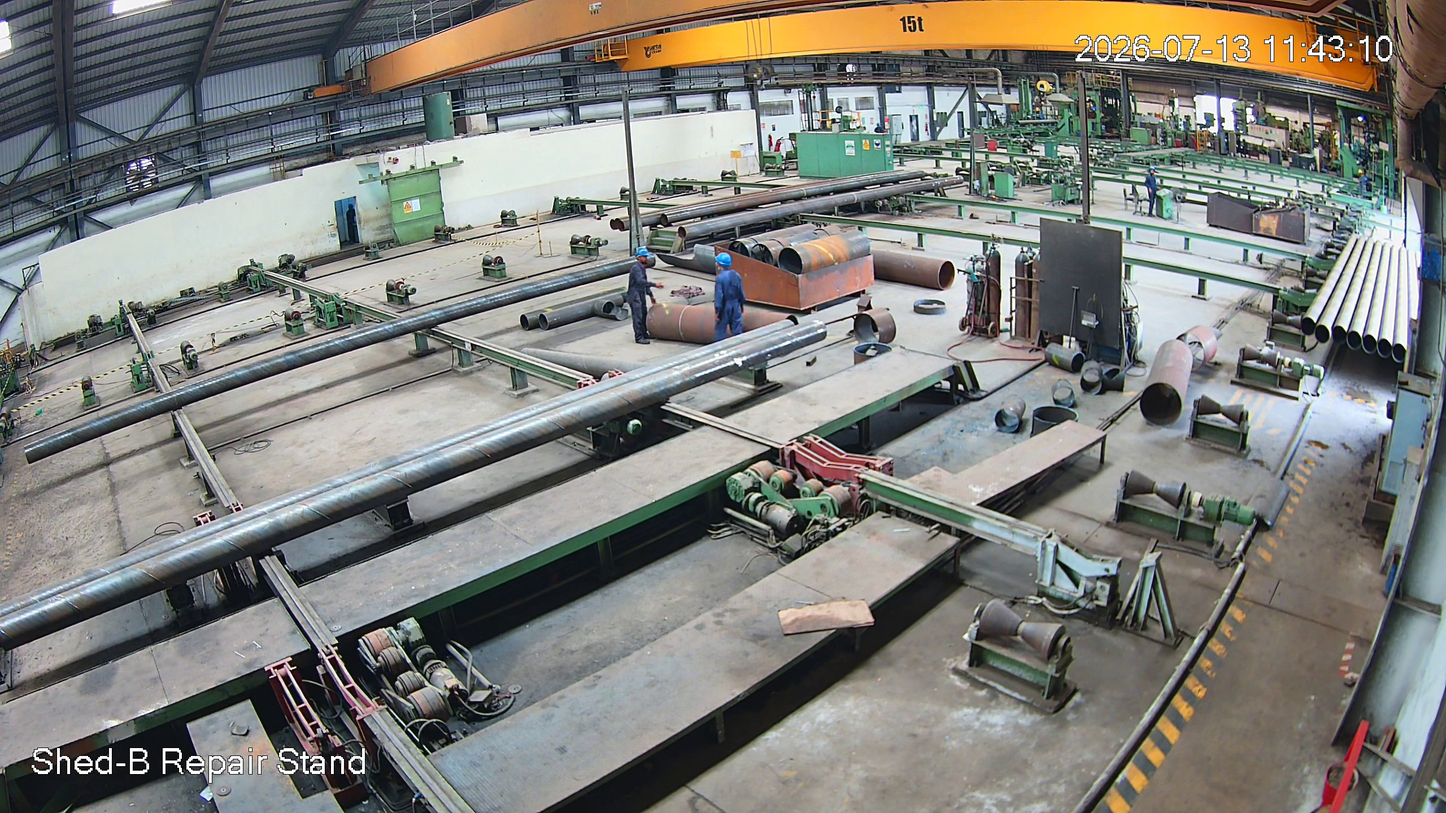Helmet: (713, 253, 735, 276), (634, 248, 656, 269)
Person: (707, 255, 748, 340), (628, 249, 653, 342)
